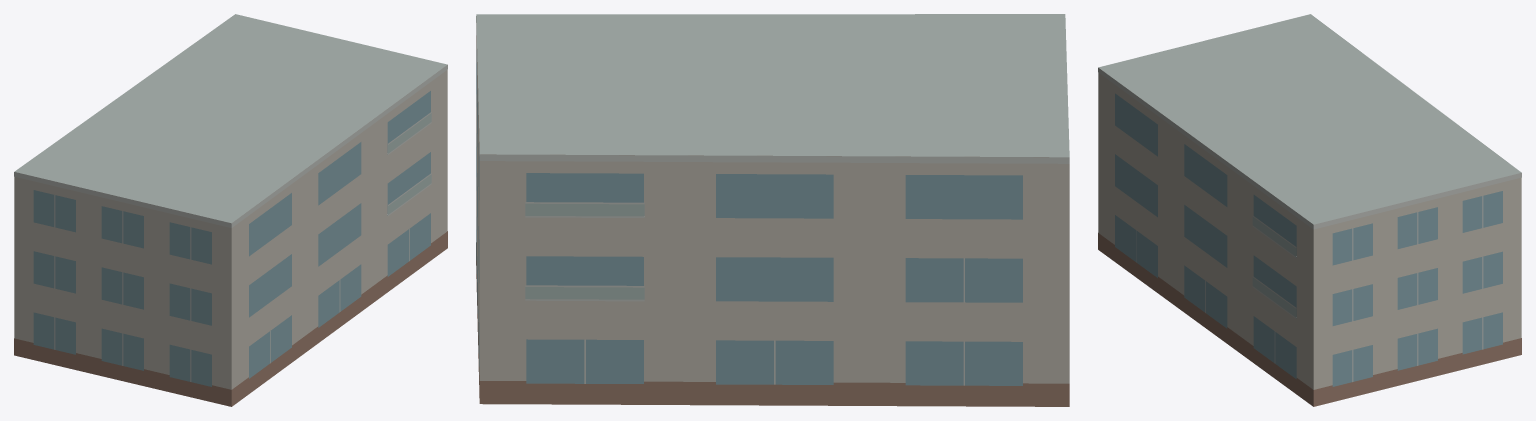
Rendered from survey-upis-32843834.glb.
3 renders of one model, left to right at view 1: azimuth 30°, elevation 25°; view 2: azimuth 150°, elevation 25°; view 3: azimuth 270°, elevation 25°, orthographic. The views are drawn at different scales.
Visible parts, largest first — view 1: survey-upis-32843834.tmp; view 2: survey-upis-32843834.tmp; view 3: survey-upis-32843834.tmp.
Part boxes in pixels (x1,y1,x2,y2): survey-upis-32843834.tmp: [14, 14, 447, 406]; survey-upis-32843834.tmp: [476, 14, 1069, 406]; survey-upis-32843834.tmp: [1098, 14, 1521, 406].
Size of the model in its own units: 22.69 by 9.15 by 19.29.
